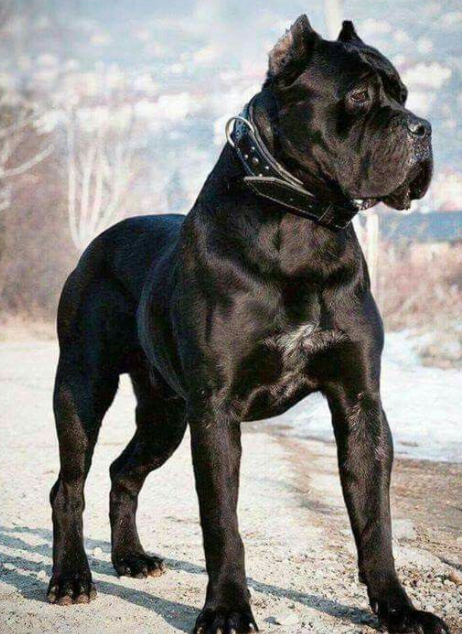dog: (42, 15, 439, 634)
